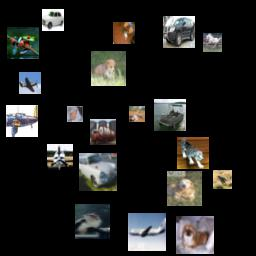airplane: (128, 213, 166, 251), (6, 105, 38, 137), (47, 144, 73, 170), (19, 72, 41, 94)
automobile: (79, 153, 117, 191), (163, 16, 195, 48), (42, 9, 64, 31)
bird: (213, 170, 232, 189)
cat: (75, 204, 110, 239), (177, 137, 209, 169), (113, 22, 135, 44)
deer: (129, 106, 145, 122)
dog: (176, 216, 214, 254), (91, 51, 126, 86), (167, 171, 202, 206)
frog: (7, 27, 39, 59), (67, 106, 83, 122)
ship: (154, 99, 186, 131)
truck: (90, 119, 116, 145)
